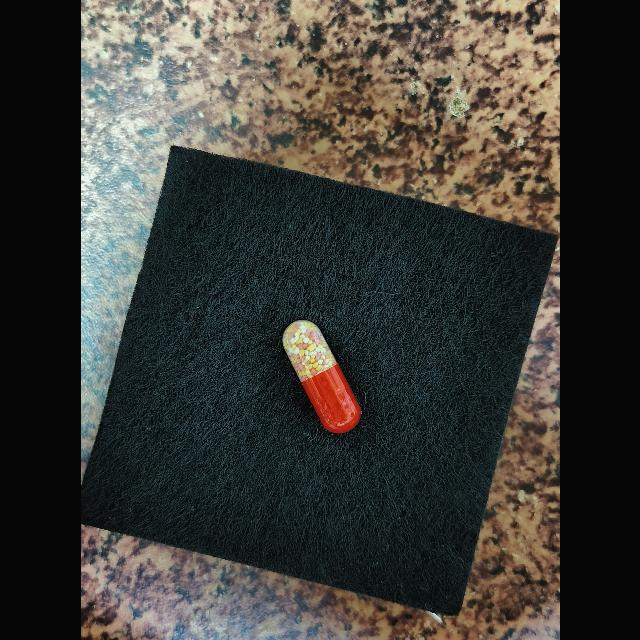Intact Capsule: (282, 319, 361, 433)
